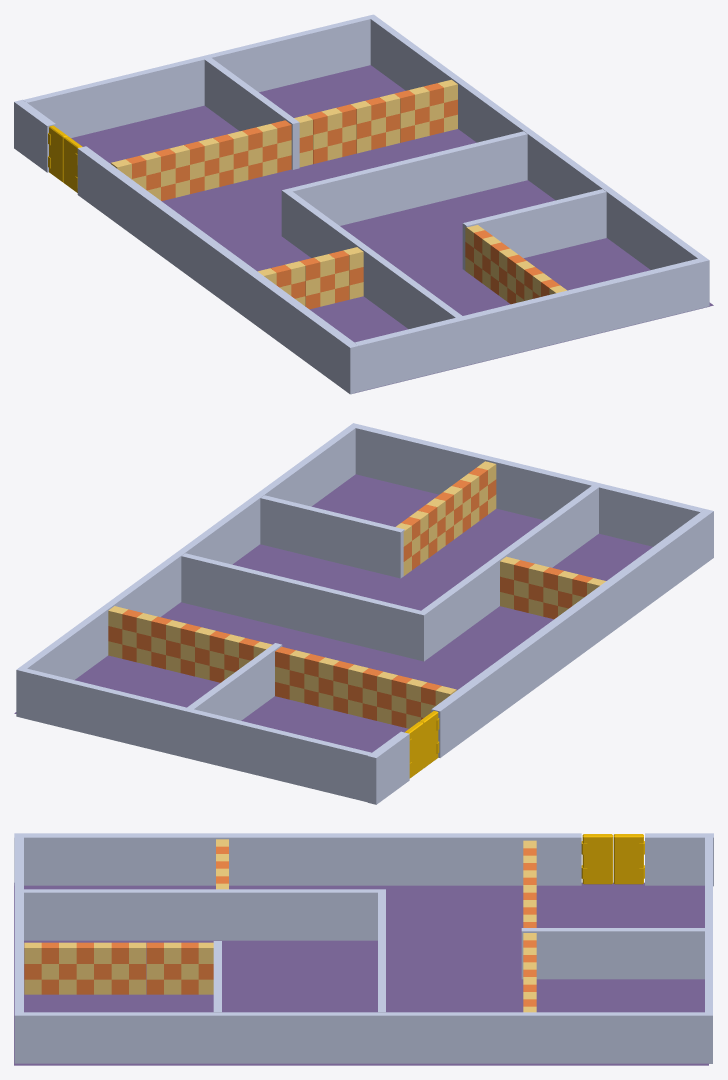
File: maps51.fbx
The picture shows the model from 3 angles, top to bottom: view 1: azimuth 30°, elevation 25°; view 2: azimuth 150°, elevation 25°; view 3: azimuth 270°, elevation 25°; orthographic projection. The views are drawn at different scales.
Visible parts, largest first — view 1: wall_01_08_geo, wall_01_05_geo, wall_01_07_geo1, wall_01_09_geo, wall_01_06_geo1, wall_01_09_geo13, wall_01_09_geo12, wall_01_09_geo14, wall_01_09_geo10, wall_01_07_geo, polySurface161, polySurface165; view 2: wall_01_08_geo, wall_01_09_geo, wall_01_07_geo1, wall_01_05_geo, wall_01_06_geo1, wall_01_09_geo13, wall_01_09_geo12, wall_01_09_geo14, wall_01_09_geo10, wall_01_07_geo, polySurface165, polySurface161; view 3: wall_01_08_geo, wall_01_06_geo1, wall_01_07_geo1, wall_01_09_geo12, wall_01_09_geo10, wall_01_07_geo, wall_01_05_geo, polySurface161, polySurface165, wall_01_09_geo, wall_01_09_geo13, wall_01_09_geo14 (+10 smaller).
Part boxes in pixels (left/top/right/bottom): wall_01_08_geo: left=71, top=65, right=713, bottom=393; wall_01_05_geo: left=355, top=258, right=703, bottom=392; wall_01_07_geo1: left=77, top=146, right=358, bottom=394; wall_01_09_geo: left=23, top=16, right=370, bottom=137; wall_01_06_geo1: left=367, top=14, right=709, bottom=308; wall_01_09_geo13: left=281, top=131, right=527, bottom=238; wall_01_09_geo12: left=285, top=191, right=461, bottom=328; wall_01_09_geo14: left=462, top=189, right=606, bottom=270; wall_01_09_geo10: left=204, top=58, right=299, bottom=169; wall_01_07_geo: left=14, top=99, right=55, bottom=172; polySurface161: left=48, top=125, right=67, bottom=182; polySurface165: left=64, top=136, right=82, bottom=192; wall_01_08_geo: left=14, top=474, right=652, bottom=752; wall_01_09_geo: left=22, top=668, right=371, bottom=802; wall_01_07_geo1: left=431, top=509, right=713, bottom=757; wall_01_05_geo: left=355, top=424, right=704, bottom=546; wall_01_06_geo1: left=16, top=423, right=359, bottom=717; wall_01_09_geo13: left=181, top=553, right=427, bottom=661; wall_01_09_geo12: left=421, top=486, right=598, bottom=658; wall_01_09_geo14: left=260, top=495, right=404, bottom=578; wall_01_09_geo10: left=187, top=643, right=282, bottom=720; wall_01_07_geo: left=367, top=731, right=409, bottom=804; polySurface165: left=419, top=711, right=439, bottom=768; polySurface161: left=404, top=721, right=423, bottom=778; wall_01_08_geo: left=14, top=882, right=708, bottom=1065; wall_01_06_geo1: left=14, top=1012, right=712, bottom=1063; wall_01_07_geo1: left=14, top=833, right=581, bottom=885; wall_01_09_geo12: left=24, top=889, right=377, bottom=940; wall_01_09_geo10: left=521, top=928, right=704, bottom=979; wall_01_07_geo: left=645, top=833, right=713, bottom=886; wall_01_05_geo: left=14, top=837, right=23, bottom=1012; polySurface161: left=613, top=834, right=644, bottom=884; polySurface165: left=581, top=834, right=612, bottom=884; wall_01_09_geo: left=705, top=837, right=712, bottom=1012; wall_01_09_geo13: left=378, top=889, right=385, bottom=1012; wall_01_09_geo14: left=213, top=941, right=221, bottom=1012.
Size of the model in its own units: 72.47 by 8.96 by 116.
3 materials, 3 textured.
